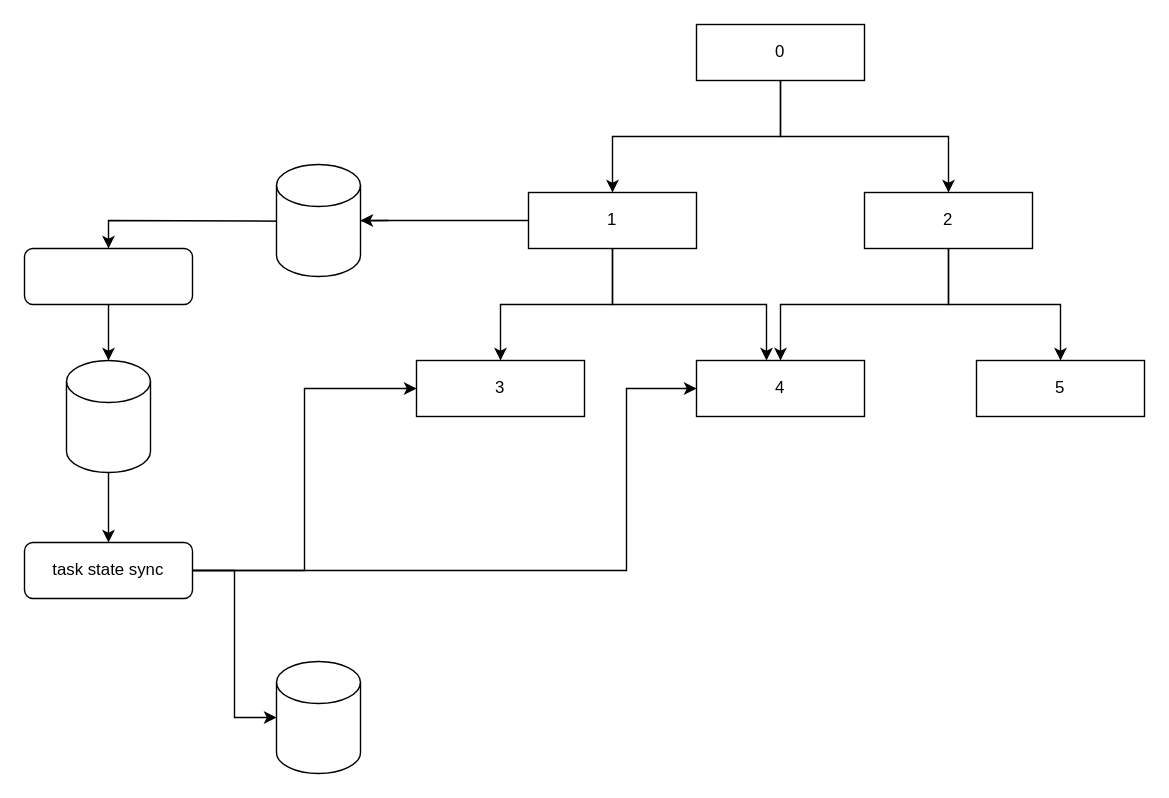
Image size: 1169x798. Some labels were removed from this diagram. Each missing label, with the centre of its shape:
cdc: the point at 107,275
resource db: the point at 317,219
task db: the point at 317,717
